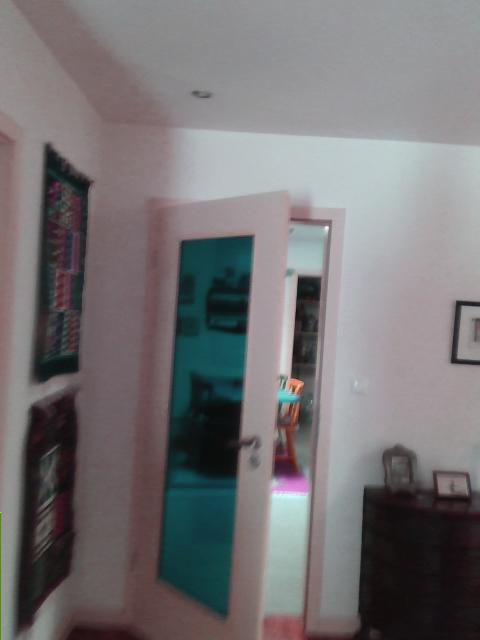semi_door: (126, 184, 344, 639)
